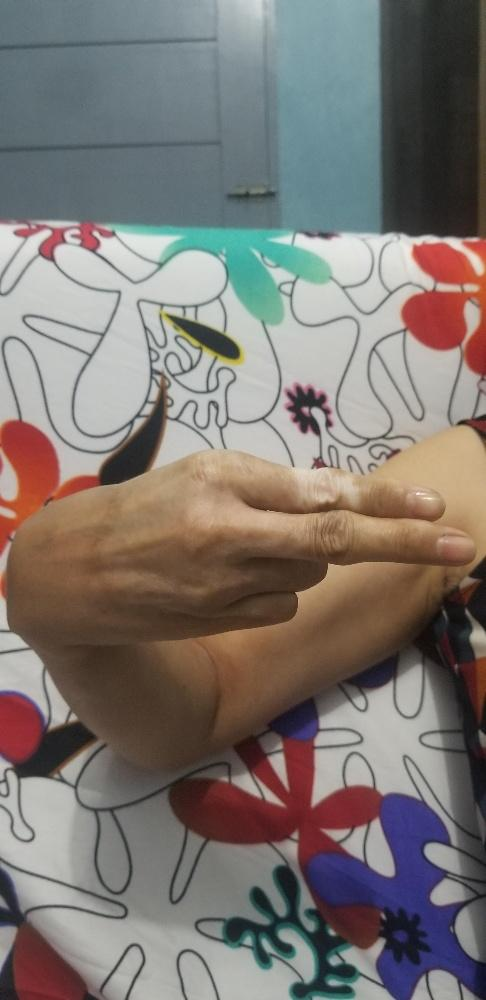h: (2, 444, 476, 650)
